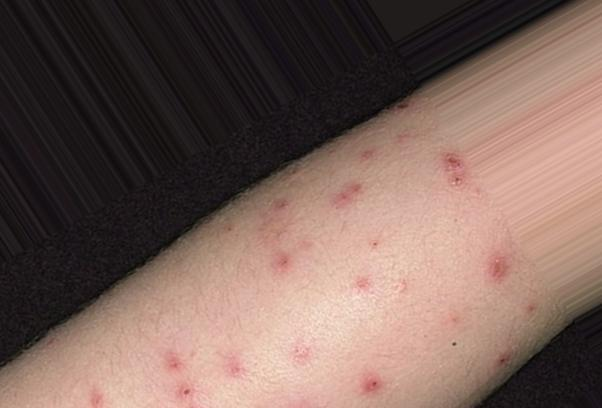Fleas: (437, 151, 469, 192), (328, 180, 365, 210), (284, 341, 316, 365), (484, 255, 510, 284), (357, 373, 388, 397), (220, 356, 250, 380), (270, 252, 292, 274), (88, 385, 109, 407), (164, 351, 183, 373), (355, 276, 375, 293), (177, 386, 193, 406), (271, 199, 290, 215)
